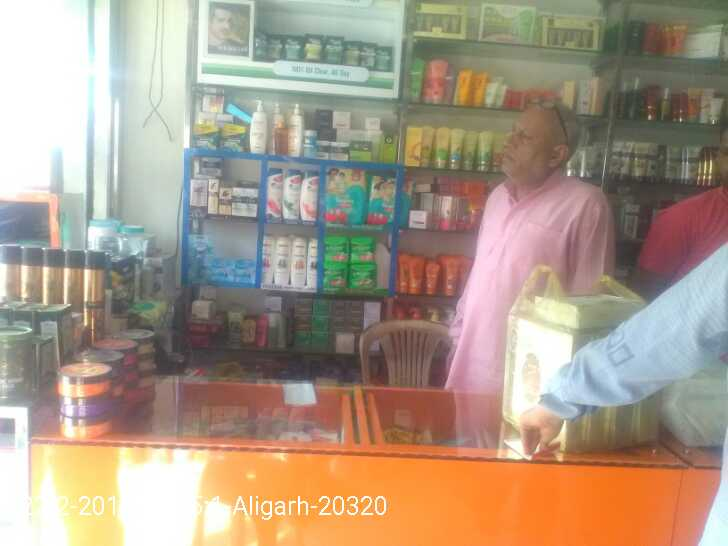venus: (188, 236, 206, 281), (206, 259, 233, 281), (233, 259, 254, 283)
